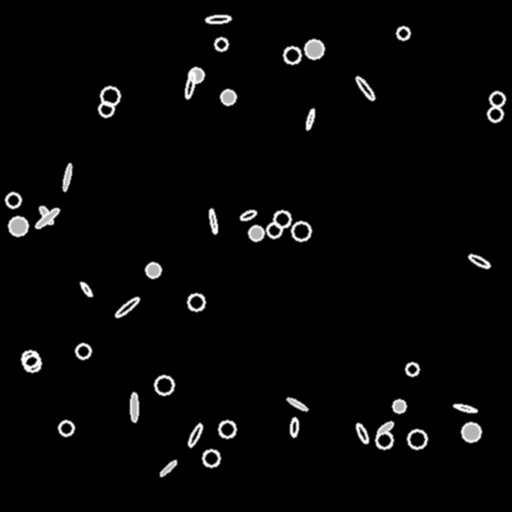pseudomonas: (114, 295, 140, 319), (34, 206, 60, 230), (354, 75, 376, 101), (187, 423, 203, 447), (286, 396, 308, 412), (468, 253, 490, 269), (159, 459, 177, 477), (38, 205, 54, 225), (184, 72, 196, 98), (376, 420, 394, 436), (62, 163, 72, 191), (355, 423, 369, 443), (208, 208, 218, 234), (453, 403, 477, 413), (79, 281, 93, 297), (305, 108, 315, 130), (239, 209, 257, 221), (206, 15, 230, 23), (131, 393, 137, 421), (290, 417, 298, 437)
synechocystis: (305, 40, 323, 58), (292, 222, 310, 240), (462, 423, 480, 441), (408, 430, 426, 448), (9, 217, 27, 235), (155, 376, 173, 394), (101, 87, 119, 105), (22, 351, 38, 367), (219, 421, 235, 437), (203, 450, 219, 466), (24, 355, 40, 371), (274, 211, 290, 227), (284, 47, 300, 63), (188, 294, 204, 310), (376, 432, 392, 448), (59, 421, 73, 435), (6, 193, 20, 207), (267, 223, 281, 237), (146, 263, 160, 277), (221, 90, 235, 104), (490, 92, 504, 106), (249, 226, 263, 240), (99, 102, 113, 116), (488, 107, 502, 121), (76, 344, 90, 358), (189, 68, 203, 82), (215, 38, 227, 50), (393, 400, 405, 412), (406, 363, 418, 375), (397, 27, 409, 39)
